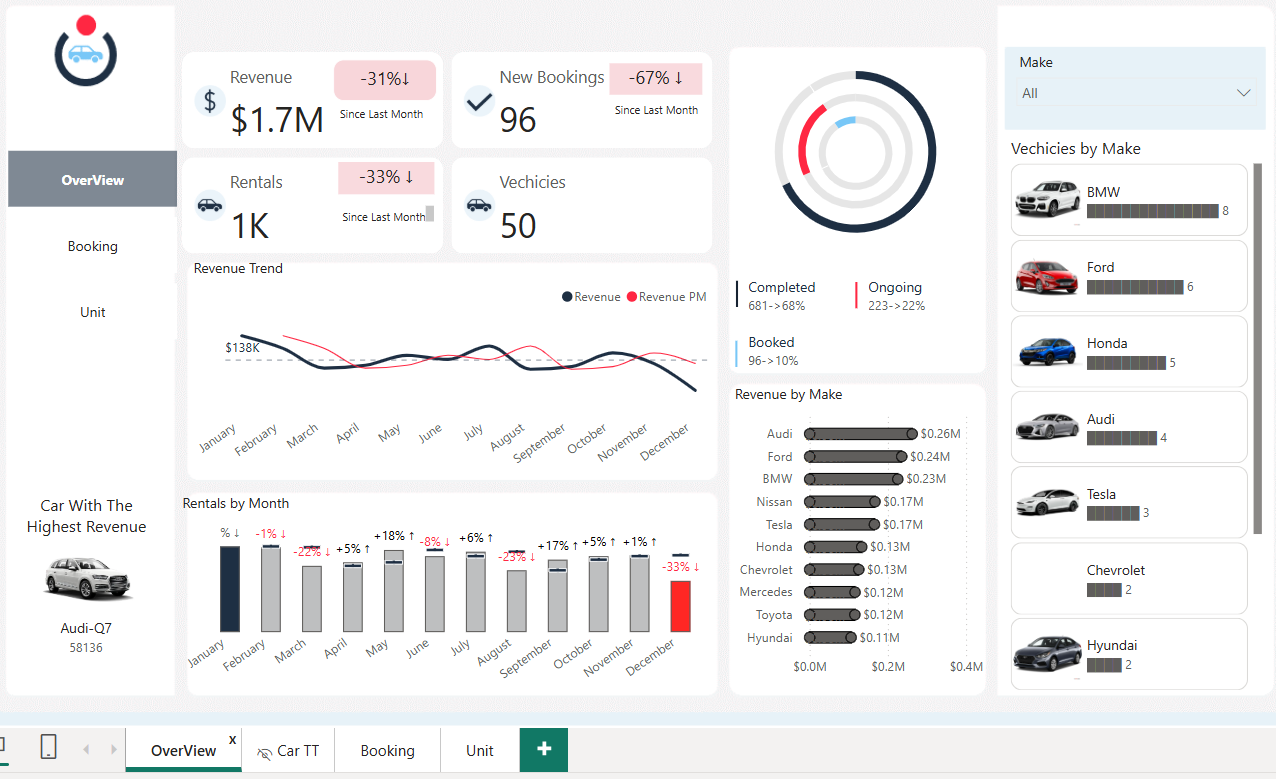

The page's visual inventory and layout, read from the dashboard file:
{"tool":"powerbi","page":{"name":"OverView","canvas":[1280,720],"ordinal":0},"visuals":[{"type":"cardVisual","fields":{"Data":["_Metrics.Revenue","_Metrics.New Bookings","_Metrics.Rentals","_Metrics.Vechicies"]},"box":[193,62.7,522.4,205.1],"z":1000},{"type":"group","id":"g1","title":"Group 1","box":[344,74.4,366.7,162.5],"z":2000},{"type":"card","fields":{"Values":["_Metrics.Revenue Grogth Formatted"]},"box":[344,74.4,100.1,39.8],"z":2000,"group":"g1"},{"type":"donutChart","fields":{"Y":["_Metrics.Rentals"],"Category":["Rentals.Status"]},"box":[713,61.5,270.2,205.1],"z":3000},{"type":"textbox","box":[345.1,112,101.3,29],"z":3000,"group":"g1"},{"type":"card","fields":{"Values":["_Metrics.New Booking Growth Formatted"]},"box":[610.6,78.2,89.3,30.2],"z":4000,"group":"g1"},{"type":"donutChart","fields":{"Y":["_Metrics.Rentals"],"Category":["Rentals.Status"]},"box":[739.5,89.3,217.2,148.4],"z":4000},{"type":"donutChart","fields":{"Y":["_Metrics.Rentals"],"Category":["Rentals.Status"]},"box":[713,115.8,270.2,98.9],"z":5000},{"type":"card","fields":{"Values":["_Metrics.Rentals Grogth Formatted"]},"box":[348.8,173.5,92.9,31.4],"z":5000,"group":"g1"},{"type":"textbox","box":[347.6,210.9,98.8,26.1],"z":6000,"group":"g1"},{"type":"advancedSlicerVisual","fields":{"Values":["Rentals.Status"]},"box":[726.3,266.6,241.3,115.8],"z":6000},{"type":"textbox","box":[610.5,108.3,100.2,31.6],"z":7000,"group":"g1"},{"type":"group","id":"g2","title":"Group 2","box":[726.3,288.3,129.1,83.2],"z":7000},{"type":"slicer","fields":{"Values":["Vehicles.Make"]},"box":[992.9,62.7,252.1,78.4],"z":8000},{"type":"shape","box":[842.1,289.5,13.3,25.3],"z":8000,"group":"g2"},{"type":"advancedSlicerVisual","fields":{"Values":["Vehicles.Make"]},"box":[993.5,149.6,252.5,540.7],"z":9000},{"type":"shape","box":[726.3,346.2,13.3,25.3],"z":9000,"group":"g2"},{"type":"lineChart","title":"Revenue Trend","fields":{"Category":["Calendar.Month"],"Y":["_Metrics.Revenue","_Metrics.Revenue PM"]},"box":[204.5,266.2,510.5,211.3],"z":10000},{"type":"shape","box":[727.5,288.3,12.1,25.3],"z":10000,"group":"g2"},{"type":"clusteredColumnChart","fields":{"Category":["Calendar.Month"],"Y":["_Metrics.Rentals"]},"box":[193.5,494,517.3,196.2],"z":11000},{"type":"clusteredBarChart","fields":{"Y":["_Metrics.Revenue"],"Category":["Vehicles.Make"]},"box":[725.9,388.3,258,290.9],"z":12000},{"type":"advancedSlicerVisual","title":"Car With The Highest Revenue ","fields":{"Values":["Vehicles.Make_Model"]},"box":[30.2,494,150.9,194.9],"z":13000},{"type":"card","fields":{"Values":["_Metrics.Zero"]},"box":[30.2,494,145.5,185.2],"z":14000},{"type":"pageNavigator","box":[30.2,163.3,163.3,182.5],"z":15000}]}

Visuals, with their boxes on the page's 1280x720 design canvas (x1, y1, x2, y2). These are canvas units, not pixel positions in the 1276x779 screenshot, which may show the page scaled, cropped or inside an application window:
cardVisual - _Metrics.Revenue x _Metrics.New Bookings: select_region(193, 63, 715, 268)
"Group 1" group: select_region(344, 74, 711, 237)
card - _Metrics.Revenue Grogth Formatted: select_region(344, 74, 444, 114)
donutChart - _Metrics.Rentals x Rentals.Status: select_region(713, 62, 983, 267)
textbox: select_region(345, 112, 446, 141)
card - _Metrics.New Booking Growth Formatted: select_region(611, 78, 700, 108)
donutChart - _Metrics.Rentals x Rentals.Status: select_region(740, 89, 957, 238)
donutChart - _Metrics.Rentals x Rentals.Status: select_region(713, 116, 983, 215)
card - _Metrics.Rentals Grogth Formatted: select_region(349, 174, 442, 205)
textbox: select_region(348, 211, 446, 237)
advancedSlicerVisual - Rentals.Status: select_region(726, 267, 968, 382)
textbox: select_region(610, 108, 711, 140)
"Group 2" group: select_region(726, 288, 855, 372)
slicer - Vehicles.Make: select_region(993, 63, 1245, 141)
shape: select_region(842, 290, 855, 315)
advancedSlicerVisual - Vehicles.Make: select_region(994, 150, 1246, 690)
shape: select_region(726, 346, 740, 372)
"Revenue Trend" lineChart: select_region(204, 266, 715, 478)
shape: select_region(728, 288, 740, 314)
clusteredColumnChart - Calendar.Month x _Metrics.Rentals: select_region(194, 494, 711, 690)
clusteredBarChart - _Metrics.Revenue x Vehicles.Make: select_region(726, 388, 984, 679)
"Car With The Highest Revenue " advancedSlicerVisual: select_region(30, 494, 181, 689)
card - _Metrics.Zero: select_region(30, 494, 176, 679)
pageNavigator: select_region(30, 163, 194, 346)
